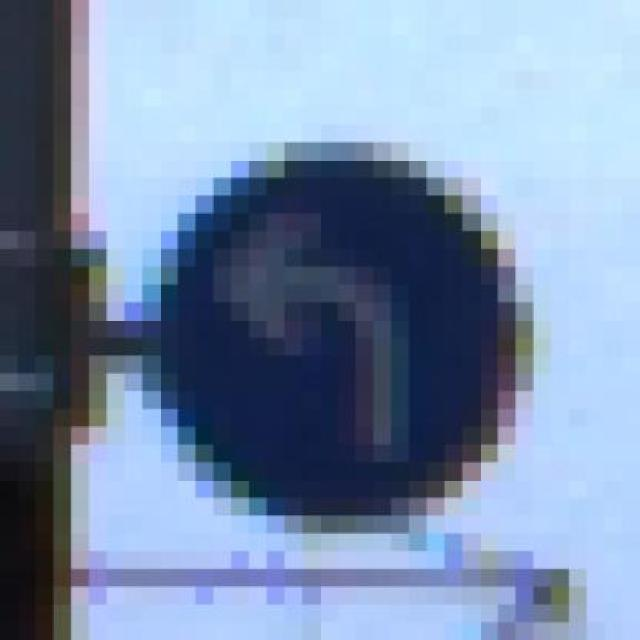Turn left ahead: (124, 89, 534, 552)
